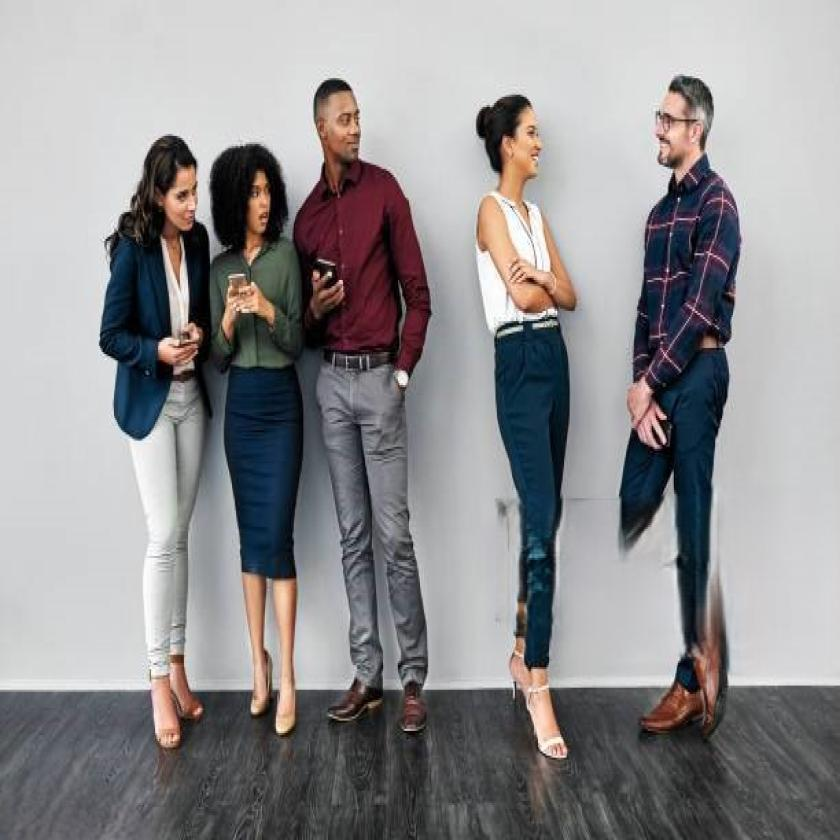Sin_casco: (648, 69, 718, 189), (476, 90, 552, 198), (223, 138, 289, 258), (137, 134, 207, 244), (309, 71, 369, 182)
